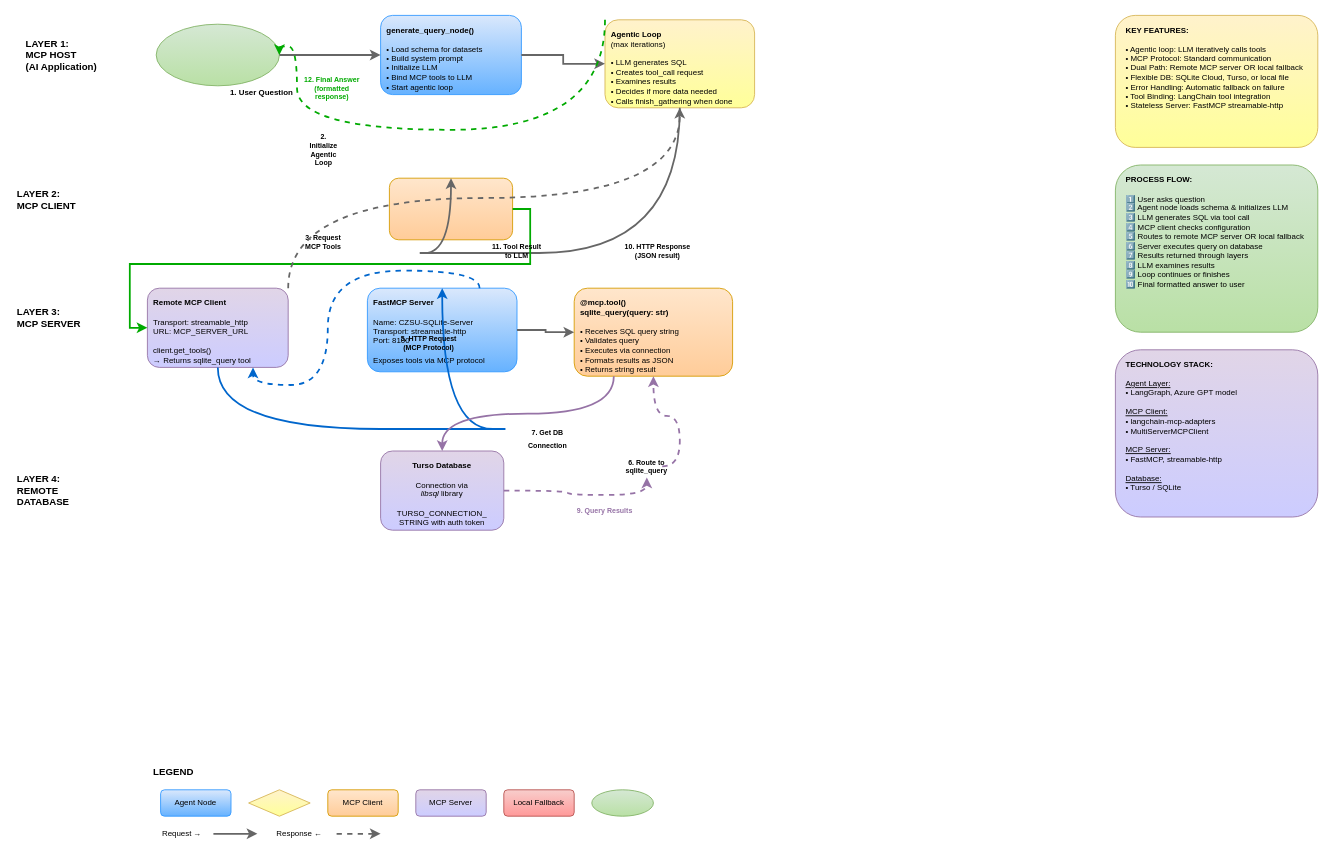
Some shapes in this 1333 by 858 pixel diagram are drawn without their labels. The centre of each missing label's shape, as x and y in pixels:
Decision: the point at 279,802
get_sqlite_tools() Initialize MCP Client MultiServerMCPClient: the point at 451,208
Start/End: the point at 622,802
User Prompt Natural language question (Czech/English): the point at 217,54
